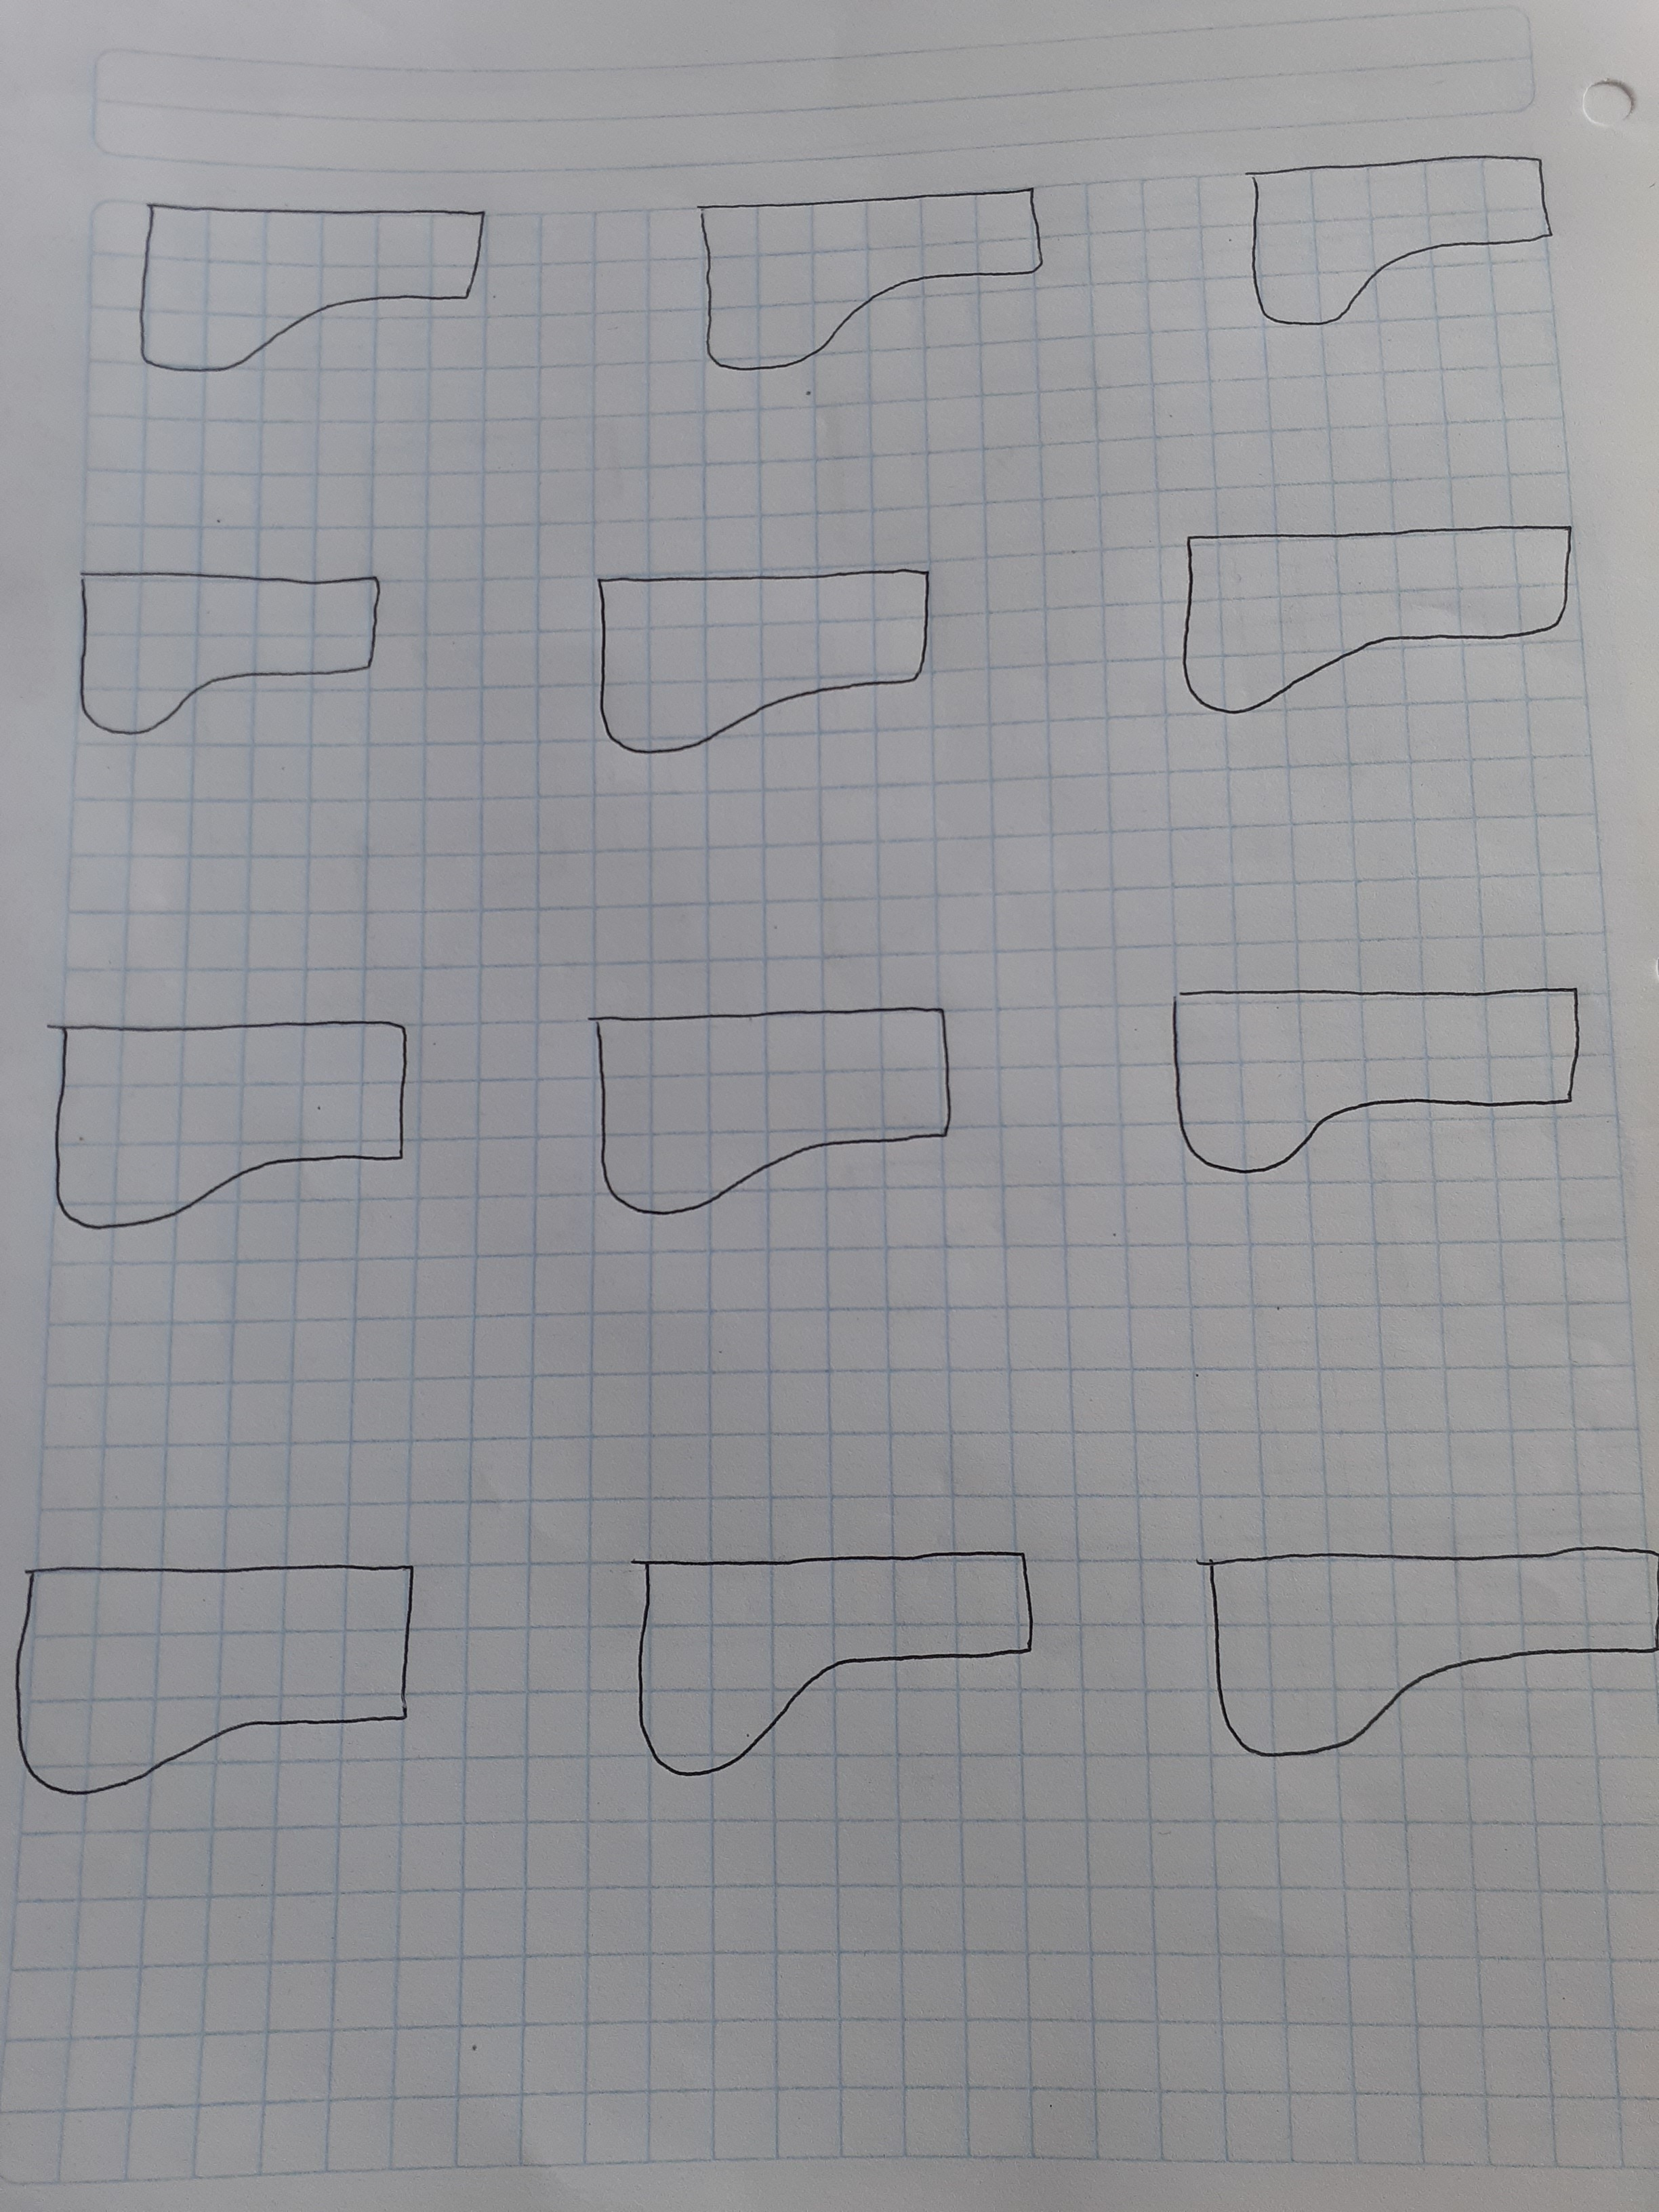print: (559, 1489, 1091, 1838), (1159, 1496, 1659, 1791), (14, 1515, 444, 1844), (563, 967, 1018, 1231), (530, 543, 1025, 770), (1154, 500, 1617, 733), (28, 995, 451, 1249), (110, 164, 533, 415), (1162, 963, 1631, 1181), (674, 178, 1079, 401), (49, 543, 418, 770), (1211, 143, 1596, 357)
